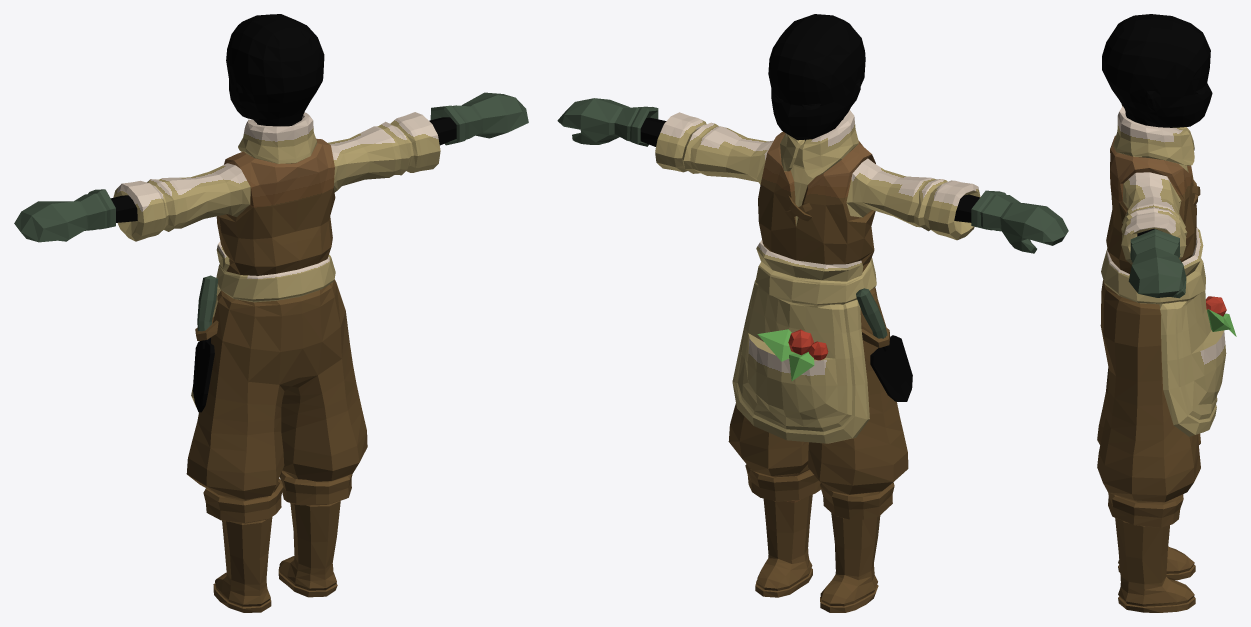
Rendered from CharSkyKid_Body_Gardener.glb.
The picture shows the model from 3 angles, left to right: view 1: azimuth 30°, elevation 25°; view 2: azimuth 150°, elevation 25°; view 3: azimuth 270°, elevation 25°; orthographic projection.
Visible parts, largest first — view 1: CharSkyKid_Body_Gardener; view 2: CharSkyKid_Body_Gardener; view 3: CharSkyKid_Body_Gardener.
Part boxes in pixels (<box>): CharSkyKid_Body_Gardener: <box>14,14,528,612</box>; CharSkyKid_Body_Gardener: <box>557,14,1068,612</box>; CharSkyKid_Body_Gardener: <box>1097,14,1236,612</box>.
Bounding box in the file's own units: 13.85 × 14.98 × 3.34.
Materials: 1 (1 with a texture image).
